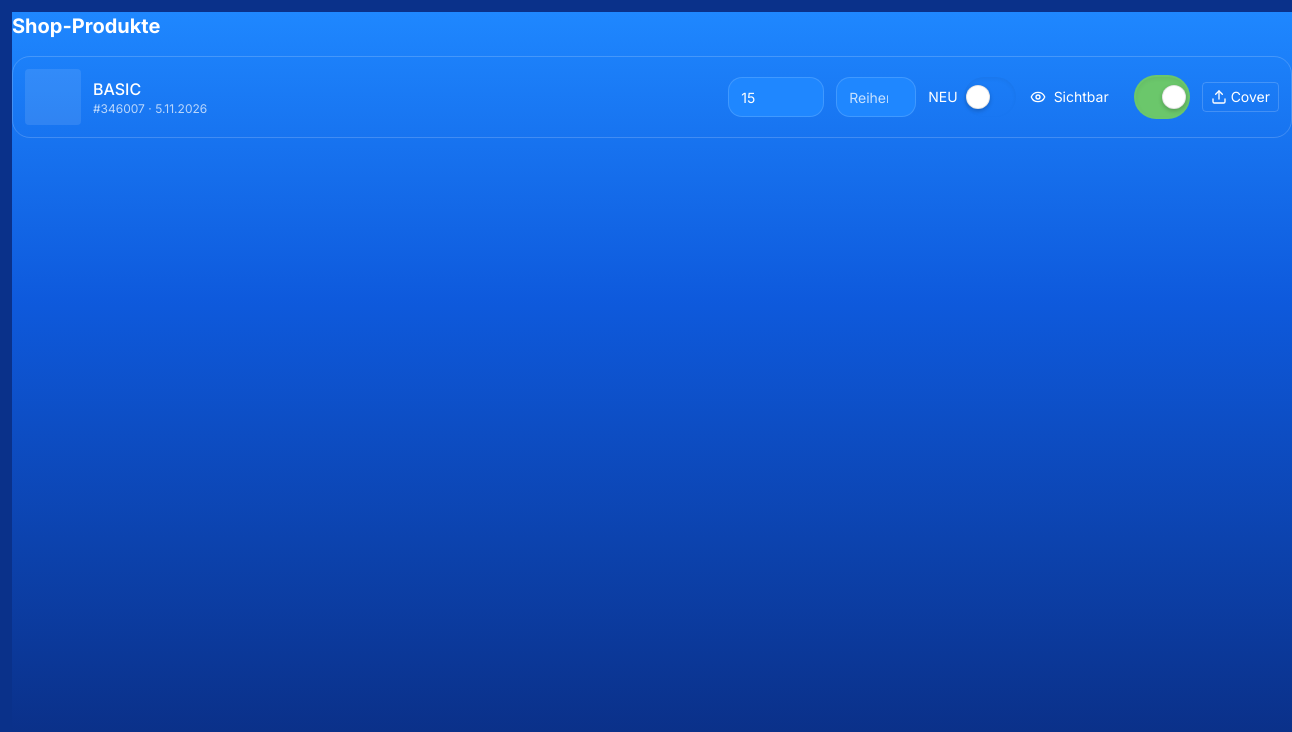
Test: admin shop visibility › persists hiding and showing the same product without changing other fields
The width and height of the screenshot is (1292, 732).
Click the switch named "Produkt ausblenden: BASIC": (1162, 97) left=1134, top=75, right=1190, bottom=119
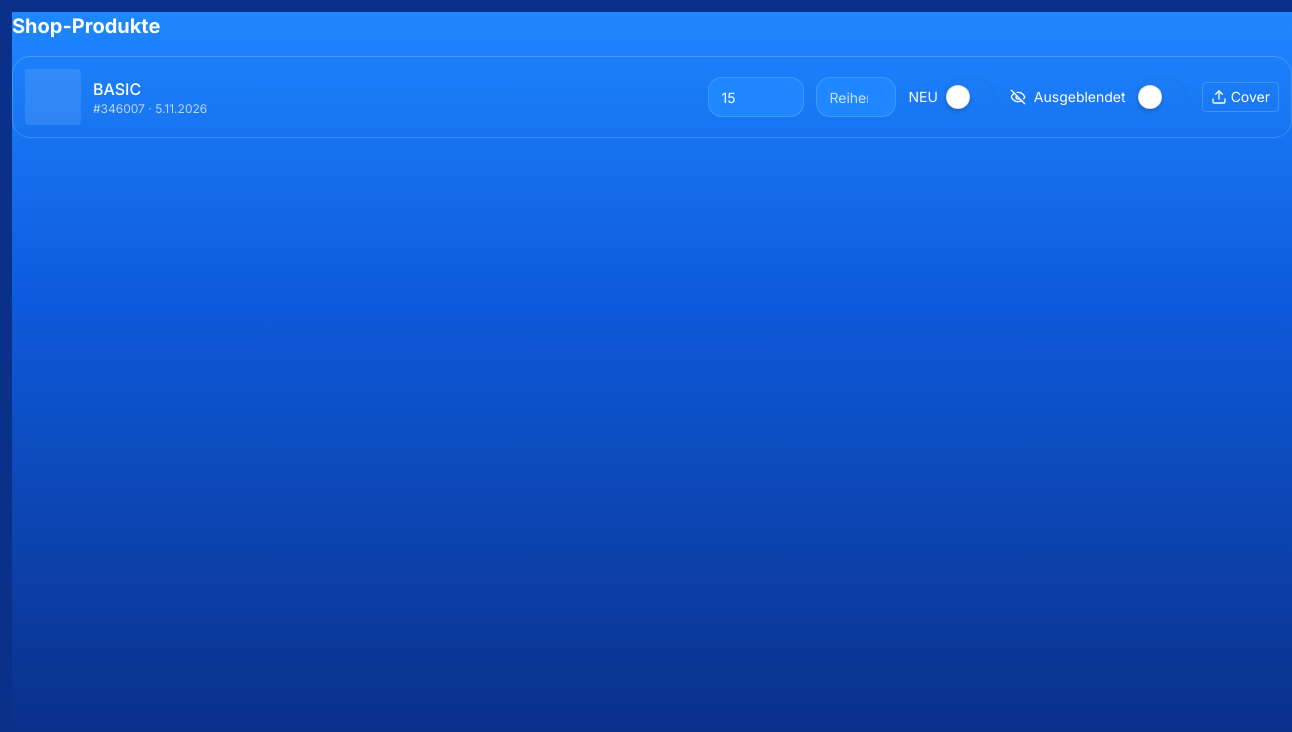
Check: the switch named "Produkt einblenden: BASIC" is shown
Click the switch named "Produkt einblenden: BASIC": (1162, 97) left=1134, top=75, right=1190, bottom=119
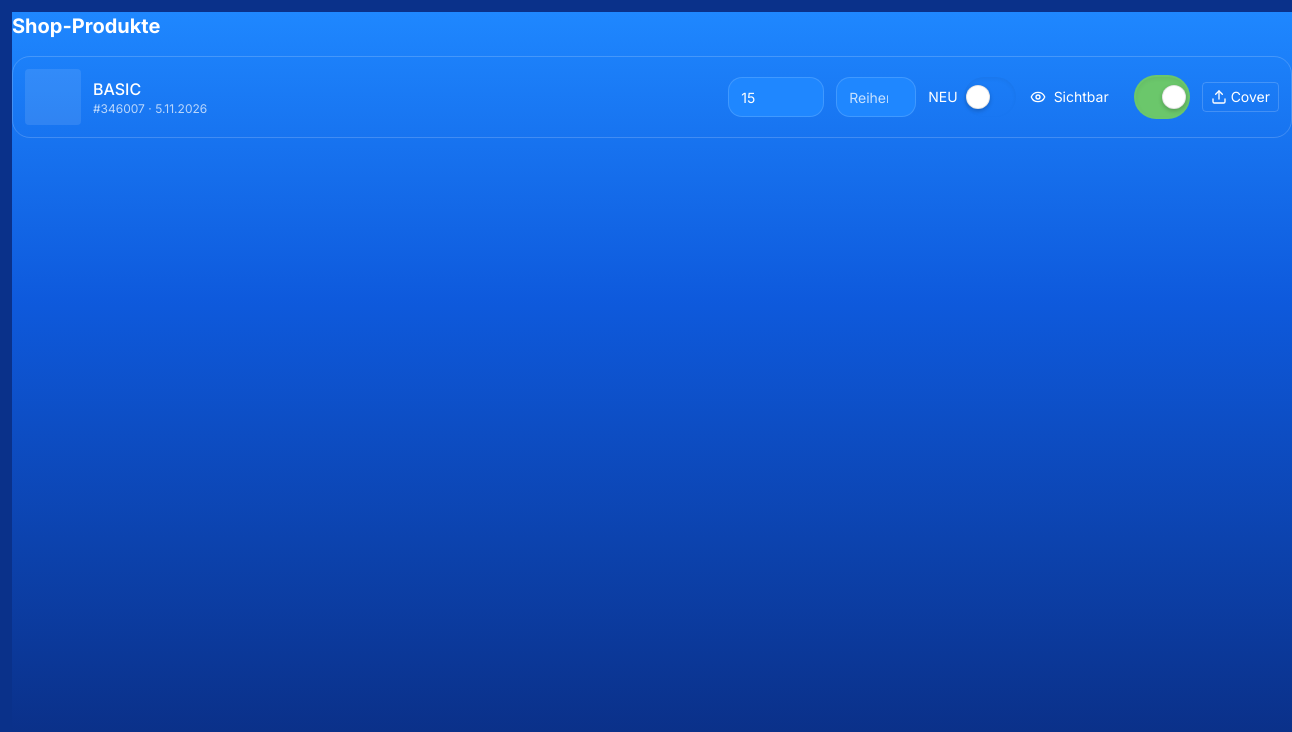
Check: the switch named "Produkt ausblenden: BASIC" is shown, box left=1134, top=75, right=1190, bottom=119
